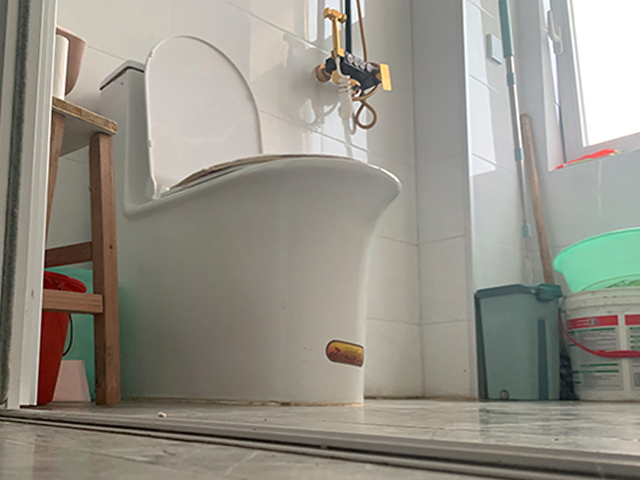closestool: (97, 35, 402, 408)
stool: (40, 96, 121, 409)
